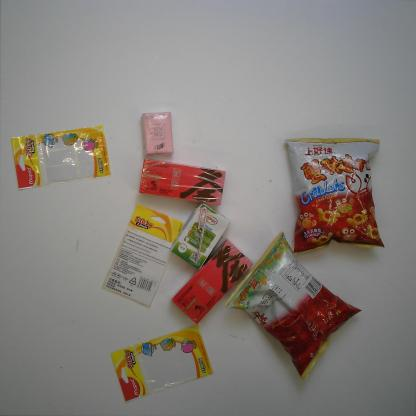Instant Drink: (168, 237, 256, 324), (138, 157, 228, 207)
Milk: (168, 204, 232, 269)
Puffed Food: (224, 231, 368, 381), (282, 134, 390, 251)
Stationery: (109, 318, 216, 406), (99, 202, 183, 309), (8, 124, 114, 192)
Tissue: (141, 108, 176, 158)
